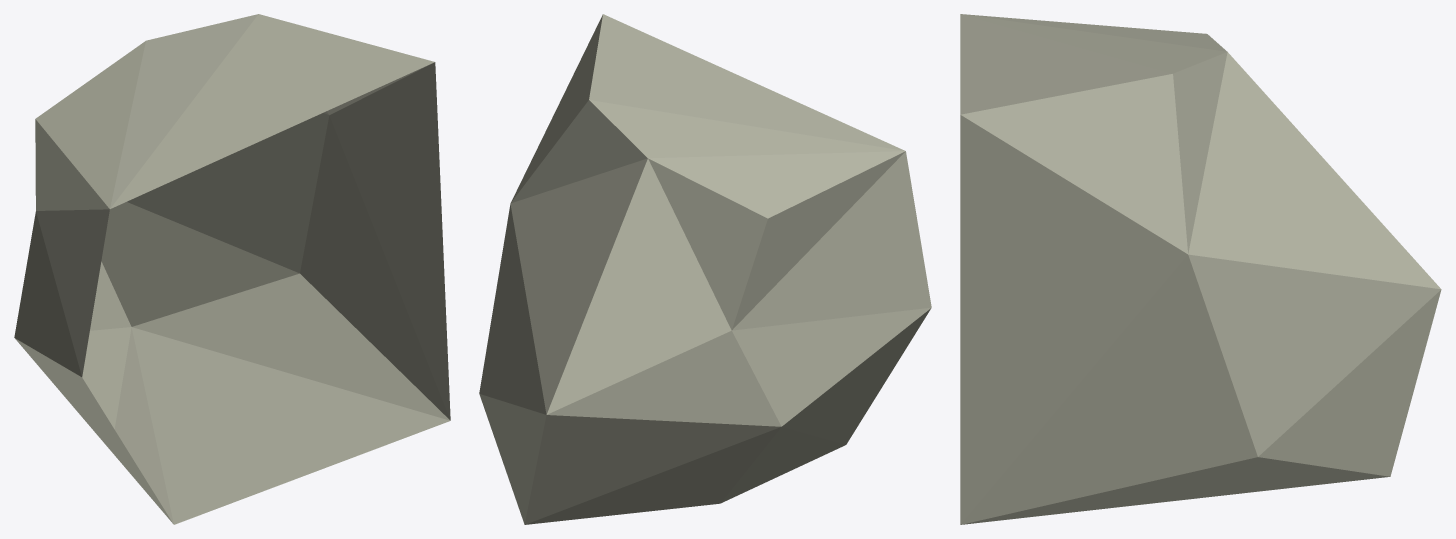
File: Rock 02.FBX
The picture shows the model from 3 angles, left to right: view 1: azimuth 30°, elevation 25°; view 2: azimuth 150°, elevation 25°; view 3: azimuth 270°, elevation 25°; orthographic projection. The views are drawn at different scales.
Parts seen in each view (by area): view 1: Rock 02; view 2: Rock 02; view 3: Rock 02.
Boxes of the visible parts, <box> form: Rock 02: <box>14,14,450,524</box>; Rock 02: <box>479,14,931,524</box>; Rock 02: <box>960,14,1441,524</box>.
Bounding box in the file's own units: 31.26 × 31.88 × 32.36.
